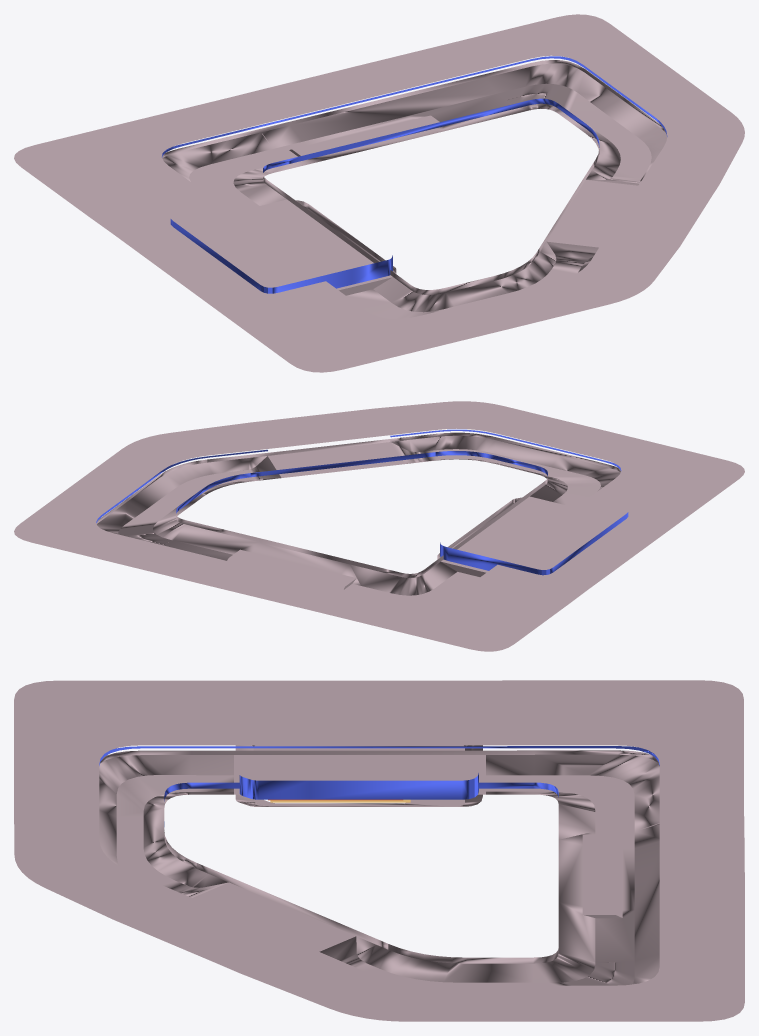
The model's file is pharmacy_ceiling_a_lod1.glb.
3 renders of one model, top to bottom at view 1: azimuth 30°, elevation 25°; view 2: azimuth 150°, elevation 25°; view 3: azimuth 270°, elevation 25°, orthographic. The views are drawn at different scales.
Size of the model in its own units: 10.52 by 0.5046 by 9.51.
